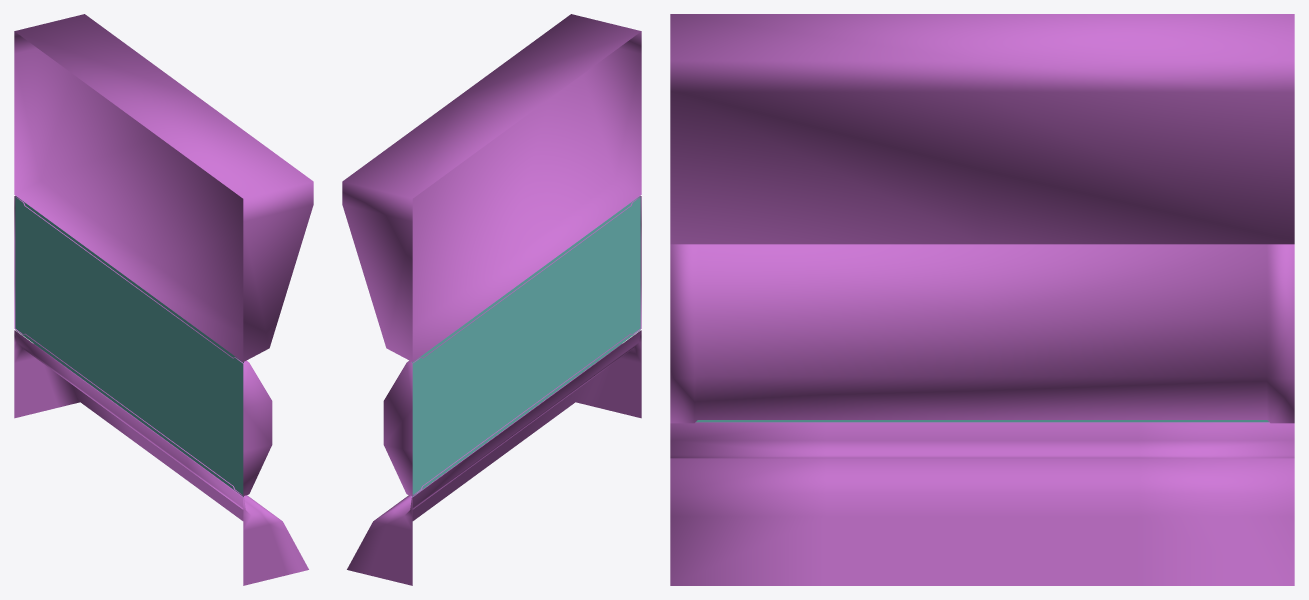
Rendered from RoomWall.fbx.
The picture shows the model from 3 angles, left to right: view 1: azimuth 30°, elevation 25°; view 2: azimuth 150°, elevation 25°; view 3: azimuth 270°, elevation 25°; orthographic projection. The views are drawn at different scales.
Parts seen in each view (by area): view 1: RoomWall; view 2: RoomWall; view 3: RoomWall.
Boxes of the visible parts, x1,y1,x2,y2 form: RoomWall: [14, 14, 313, 585]; RoomWall: [342, 14, 641, 585]; RoomWall: [670, 14, 1294, 585].
Size of the model in its own units: 0.8 by 4.2 by 4.5.
